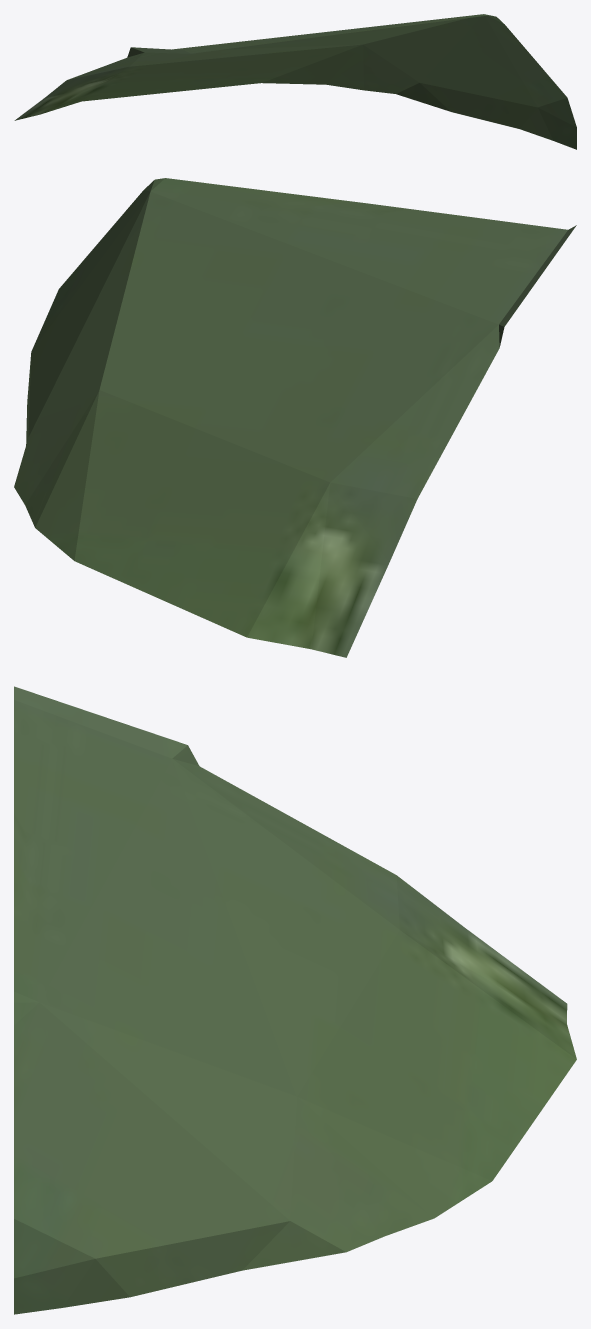
The picture shows the model from 3 angles, top to bottom: view 1: azimuth 30°, elevation 25°; view 2: azimuth 150°, elevation 25°; view 3: azimuth 270°, elevation 25°; orthographic projection. The views are drawn at different scales.
Size of the model in its own units: 6.26 by 2.98 by 4.79.
1 material, 1 textured.
